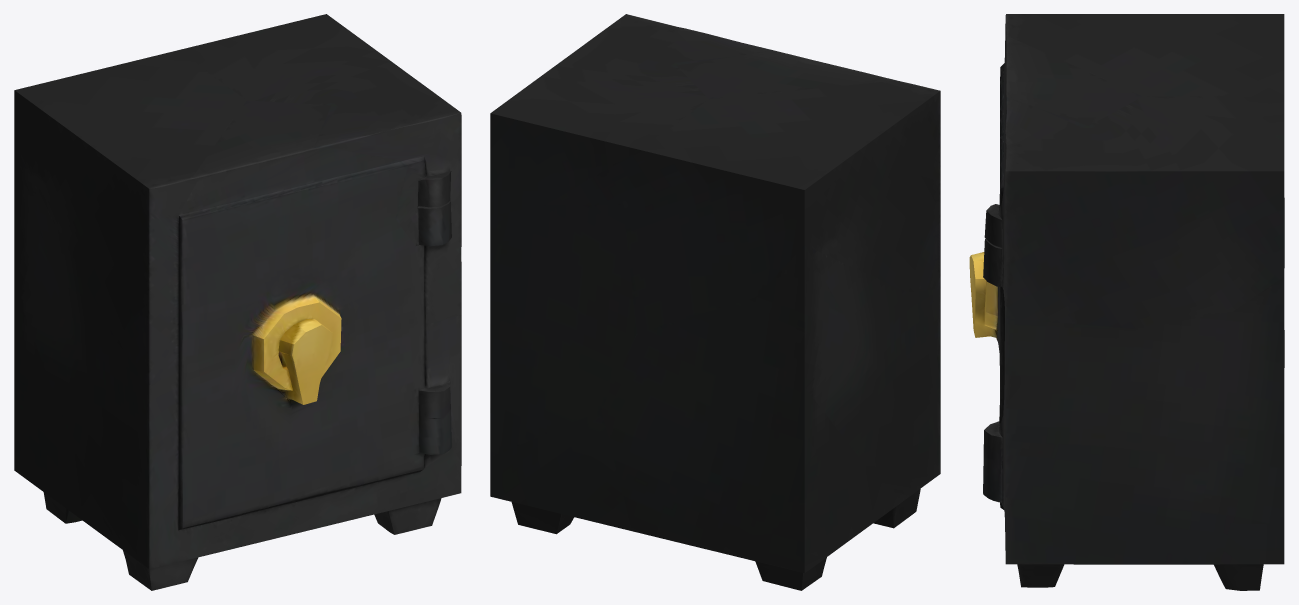
Rendered from safe.glb.
3 renders of one model, left to right at view 1: azimuth 30°, elevation 25°; view 2: azimuth 150°, elevation 25°; view 3: azimuth 270°, elevation 25°, orthographic. The views are drawn at different scales.
Visible parts, largest first — view 1: model; view 2: model; view 3: model.
Boxes of the visible parts, x1=… form: model: x1=14, y1=14, x2=461, y2=590; model: x1=490, y1=14, x2=940, y2=590; model: x1=969, y1=14, x2=1284, y2=590.
Bounding box in the file's own units: 1.49 × 1.89 × 1.26.
1 material, 1 textured.
